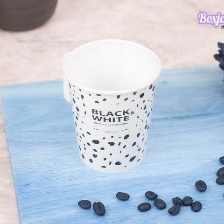paper_cup: (55, 33, 164, 176)
